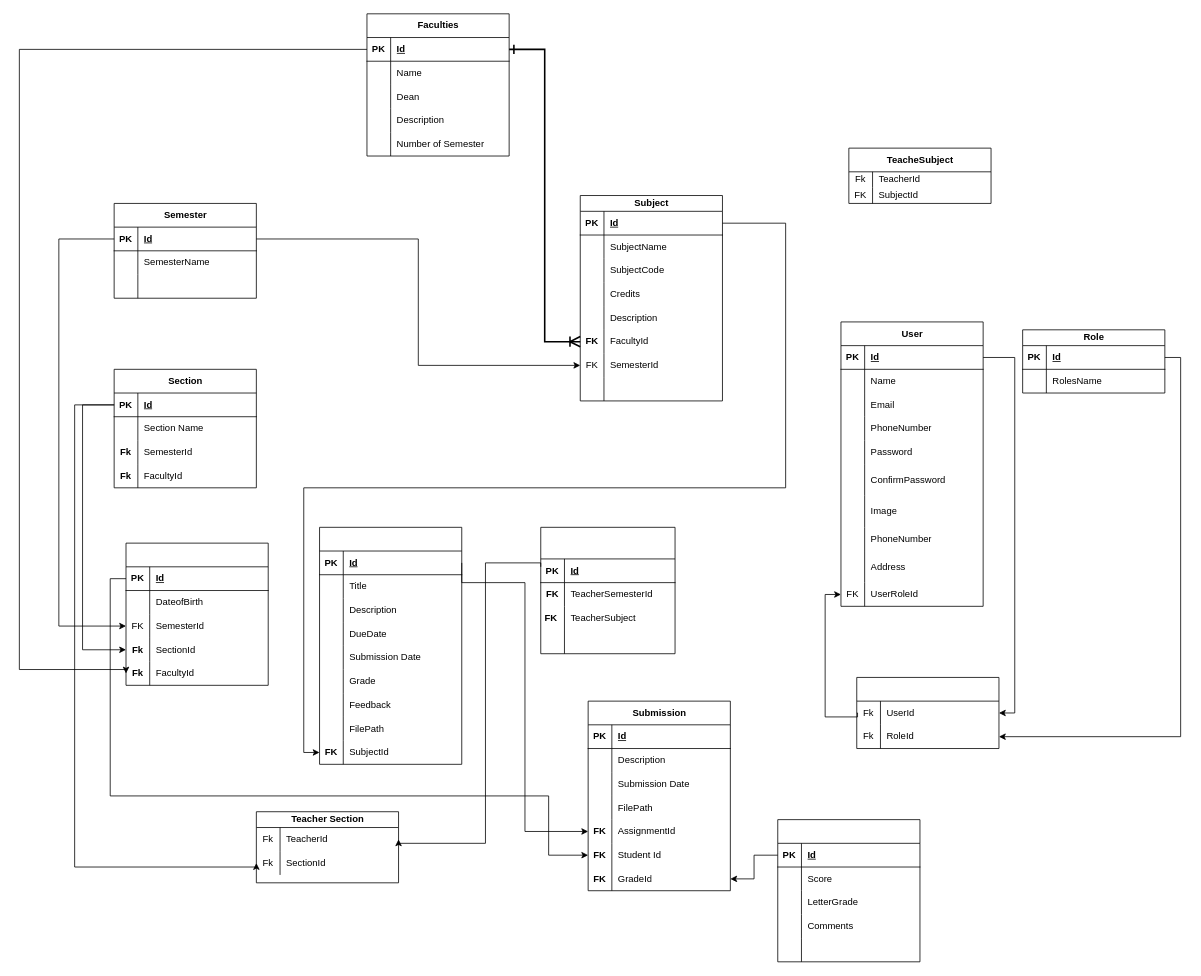
This 1201x976 diagram has some shape labels left out. Here are the shapes that lost their labels. From the top down, the box of each, then its label:
(540, 527, 675, 654): Teacher(User)
(125, 542, 268, 685): Student(User)
(319, 527, 462, 764): Assignment
(856, 677, 999, 749): UserRole
(777, 819, 920, 962): Grades
